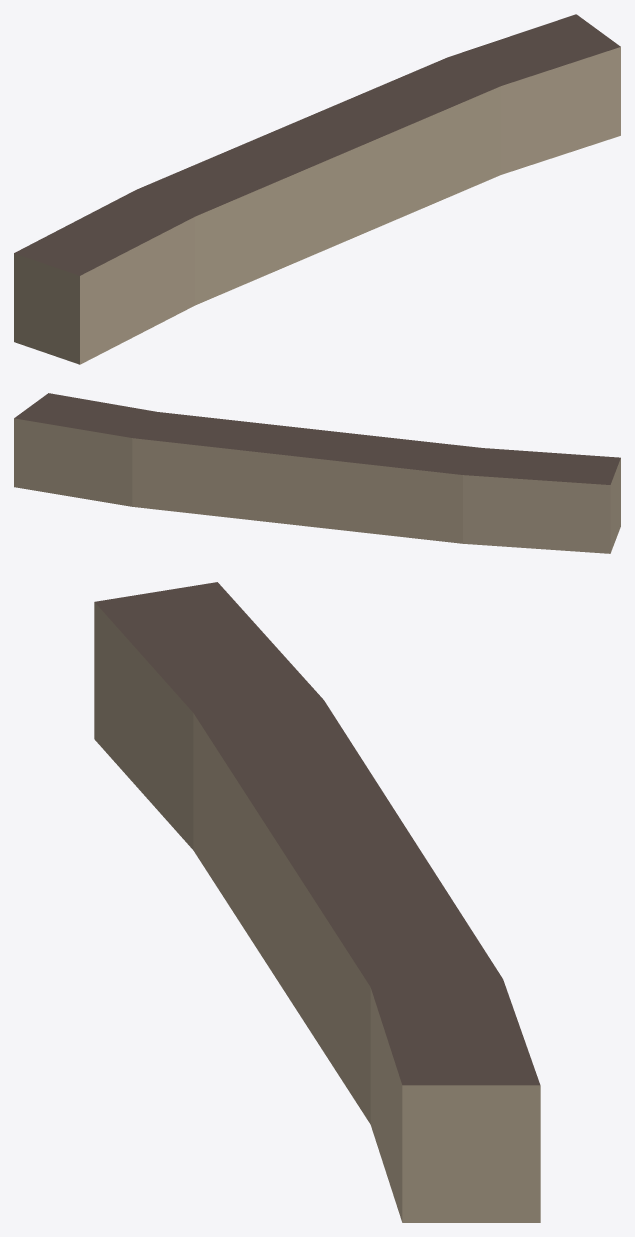
3 views of the same model, one above another, from view 1: azimuth 30°, elevation 25°; view 2: azimuth 150°, elevation 25°; view 3: azimuth 270°, elevation 25° (orthographic). The views are drawn at different scales.
Parts seen in each view (by area): view 1: HP-w505653341; view 2: HP-w505653341; view 3: HP-w505653341.
Part boxes in pixels (x1,y1,x2,y2): HP-w505653341: (14,14,620,364); HP-w505653341: (14,393,620,553); HP-w505653341: (94,582,540,1222).
Size of the model in its own units: 70.64 by 9 by 26.45.
